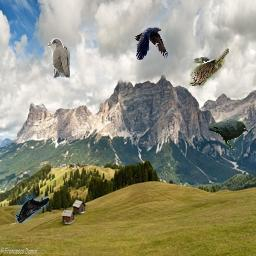Crow: (209, 119, 249, 150), (135, 27, 168, 60), (15, 191, 49, 223)
Cuckoo: (48, 38, 70, 78)
Sparrow: (189, 48, 229, 86)
